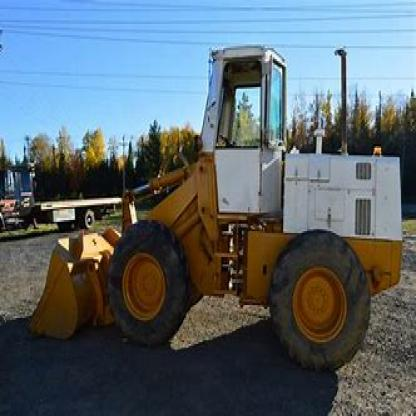bull_dozer/loader/grader: (24, 41, 413, 375)
